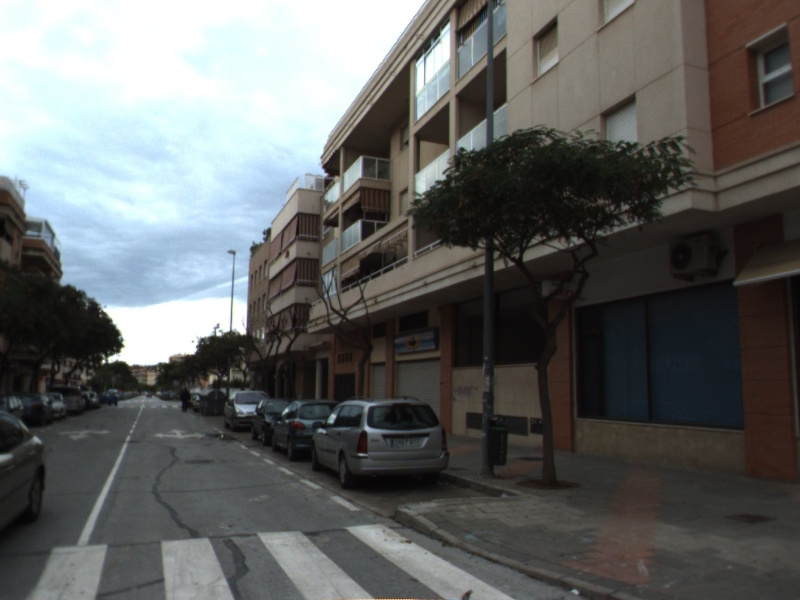STRAIGHT_LEFT_RIGHT: (151, 427, 208, 441)
